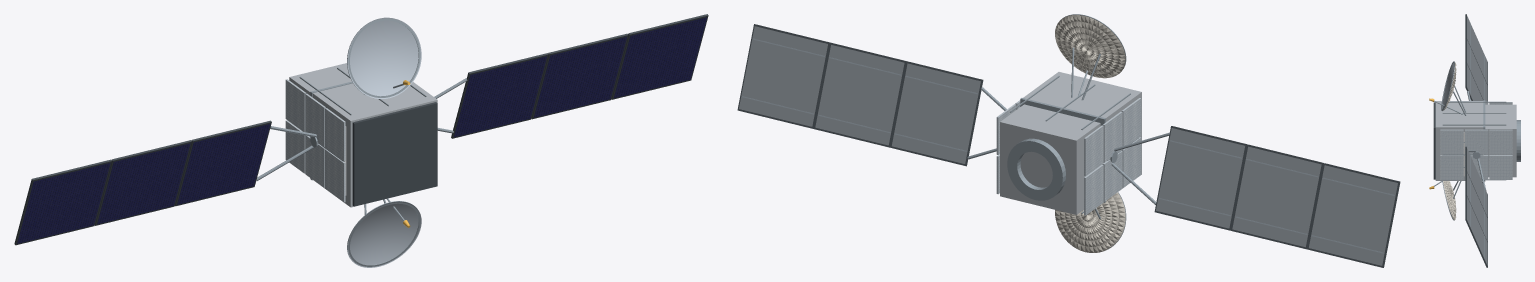
File: astra-1c-1d.glb
3 views of the same model, side by side, from view 1: azimuth 30°, elevation 25°; view 2: azimuth 150°, elevation 25°; view 3: azimuth 270°, elevation 25° (orthographic). The views are drawn at different scales.
Parts seen in each view (by area): view 1: Solar cell panel (×6), Earth-facing deck, Radiator bay (×6), Reflector 2 face, Solar panel frame (×6), Reflector 1 face, Payload module, Service module, Reflector 2 edge, Reflector 1 edge; view 2: Rear array substrate (×6), Service module, Solar panel frame (×6), Radiator bay (×6), Reflector 2 insulated back, Payload module, Reflector 1 insulated back, Launch adapter ring, Module interface; view 3: Radiator bay (×7), Rear array substrate (×6), Payload module, Service module, Solar panel frame (×6), Reflector 1 insulated back, Reflector 2 face, Blanket closeout seam (×2), Earth-facing deck, Launch adapter ring, Reflector 2 edge, Reflector 2 insulated back (+3 smaller).
Part boxes in pixels (x1=…): Solar cell panel (×6): x1=17, y1=17, x2=706, y2=243; Earth-facing deck: x1=352, y1=102, x2=437, y2=206; Radiator bay (×6): x1=285, y1=79, x2=345, y2=202; Reflector 2 face: x1=347, y1=17, x2=421, y2=98; Solar panel frame (×6): x1=14, y1=14, x2=708, y2=245; Reflector 1 face: x1=347, y1=201, x2=421, y2=267; Payload module: x1=312, y1=82, x2=437, y2=207; Service module: x1=289, y1=63, x2=351, y2=95; Reflector 2 edge: x1=347, y1=17, x2=420, y2=97; Reflector 1 edge: x1=347, y1=201, x2=420, y2=266; Rear array substrate (×6): x1=739, y1=26, x2=1397, y2=265; Service module: x1=1000, y1=104, x2=1100, y2=214; Solar panel frame (×6): x1=737, y1=24, x2=1400, y2=267; Radiator bay (×6): x1=1084, y1=98, x2=1141, y2=215; Reflector 2 insulated back: x1=1055, y1=15, x2=1125, y2=78; Payload module: x1=1023, y1=72, x2=1141, y2=188; Reflector 1 insulated back: x1=1055, y1=192, x2=1125, y2=252; Launch adapter ring: x1=1007, y1=138, x2=1065, y2=200; Module interface: x1=1020, y1=98, x2=1105, y2=202; Radiator bay (×7): x1=1440, y1=102, x2=1512, y2=179; Rear array substrate (×6): x1=1467, y1=16, x2=1487, y2=265; Payload module: x1=1435, y1=101, x2=1483, y2=180; Service module: x1=1485, y1=104, x2=1516, y2=177; Solar panel frame (×6): x1=1465, y1=14, x2=1487, y2=267; Reflector 1 insulated back: x1=1443, y1=181, x2=1456, y2=220; Reflector 2 face: x1=1441, y1=61, x2=1454, y2=110; Blanket closeout seam (×2): x1=1442, y1=101, x2=1506, y2=125; Earth-facing deck: x1=1433, y1=102, x2=1435, y2=179; Launch adapter ring: x1=1516, y1=120, x2=1520, y2=161; Reflector 2 edge: x1=1441, y1=61, x2=1454, y2=111; Reflector 2 insulated back: x1=1443, y1=62, x2=1456, y2=110.
Bounding box in the file's own units: 20.98 × 7.35 × 3.96.
Materials: 10 (2 with a texture image).
